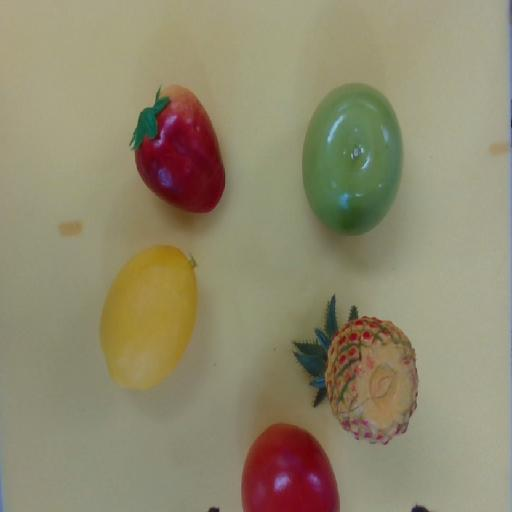apple: (300, 83, 404, 236)
lemon: (87, 234, 209, 399)
mango: (116, 75, 237, 228)
pineapple: (269, 281, 454, 463)
tomato: (241, 423, 339, 511)
